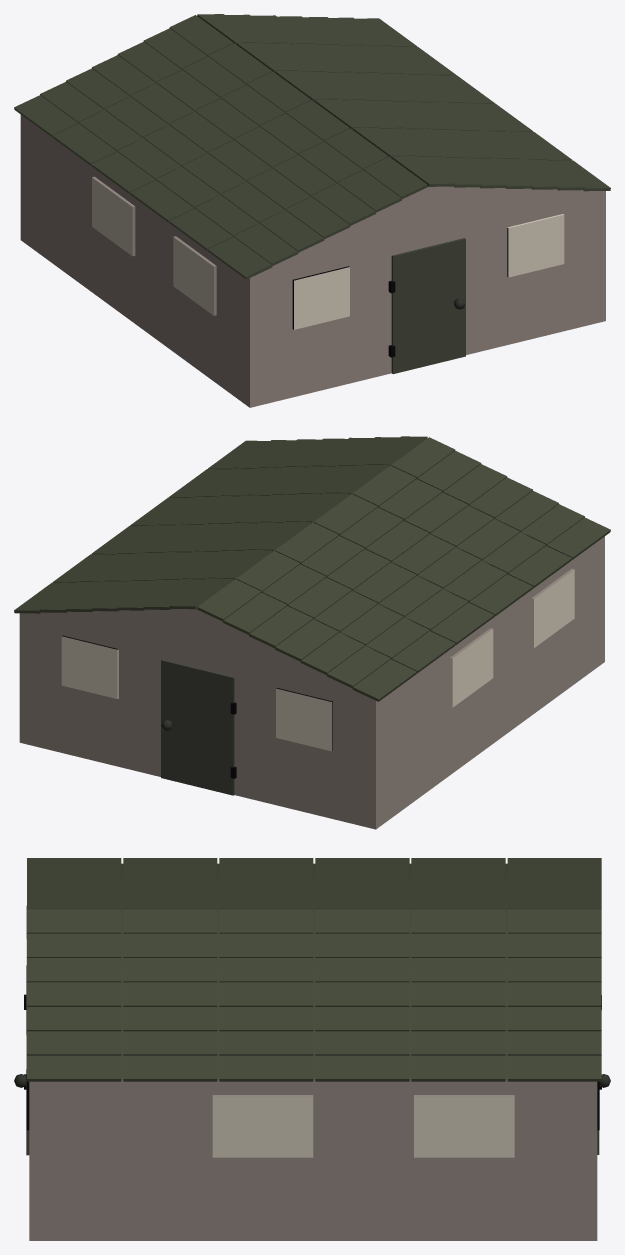
File: CloseHouse.fbx
3 views of the same model, one above another, from view 1: azimuth 30°, elevation 25°; view 2: azimuth 150°, elevation 25°; view 3: azimuth 270°, elevation 25° (orthographic). The views are drawn at different scales.
Visible parts, largest first — view 1: Close House, Door1 Closed; view 2: Close House, Door2 Closed; view 3: Close House.
Boxes of the visible parts, x1,y1,x2,y2 form: Close House: (14,14,610,407); Door1 Closed: (391,238,465,374); Close House: (14,436,610,829); Door2 Closed: (161,660,234,795); Close House: (24,858,601,1240).
Bounding box in the file's own units: 833 × 394 × 952.
